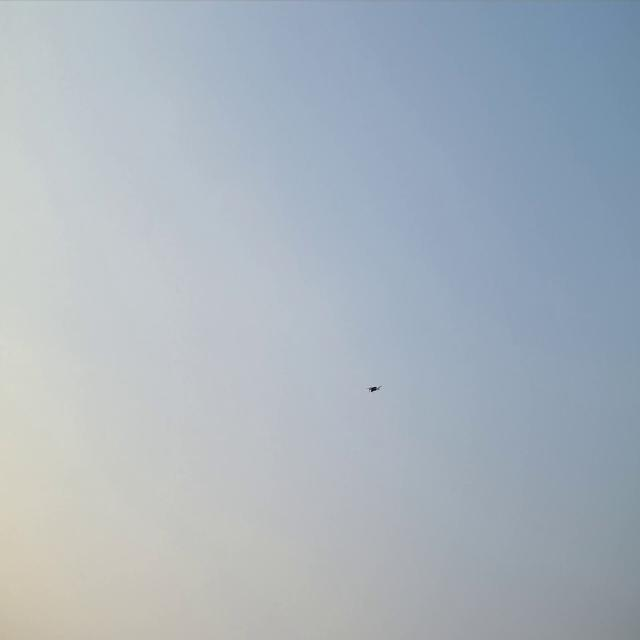UAV: (366, 381, 383, 394)
